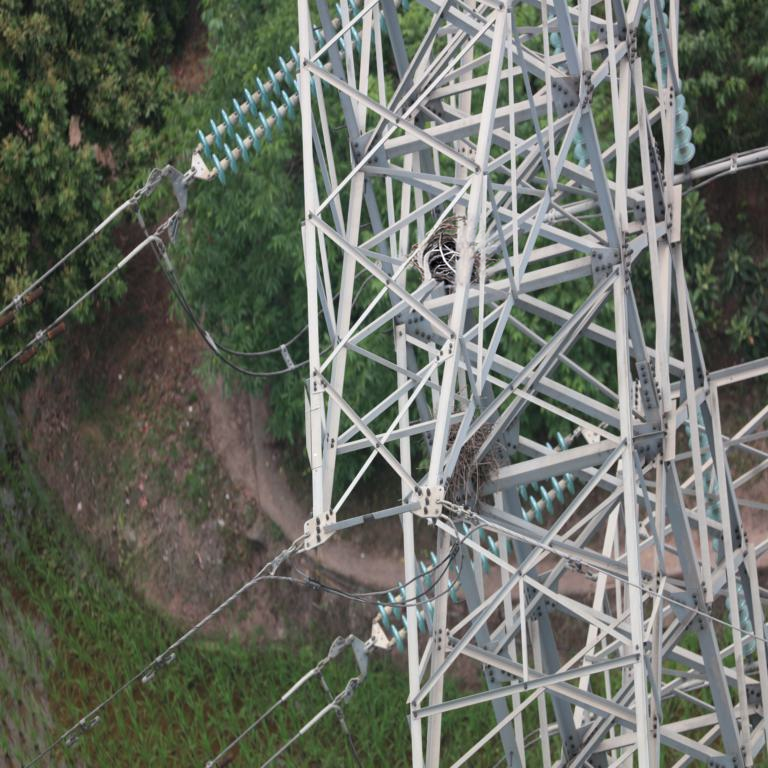nest: (430, 419, 507, 505), (418, 216, 498, 283)
